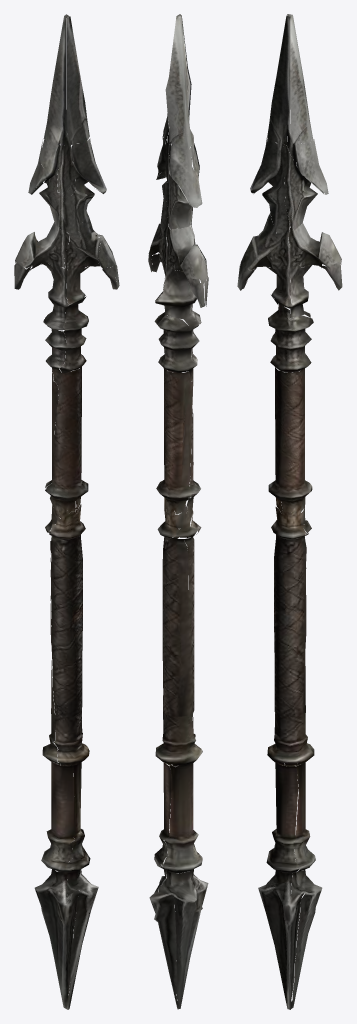
The model's file is winged_spear.glb.
3 renders of one model, left to right at view 1: azimuth 90°, elevation 25°; view 2: azimuth 210°, elevation 25°; view 3: azimuth 270°, elevation 25°, orthographic.
Parts seen in each view (by area): view 1: winged_spear; view 2: winged_spear; view 3: winged_spear.
Part boxes in pixels (x1=…): winged_spear: x1=14, y1=14, x2=119, y2=1009; winged_spear: x1=148, y1=14, x2=208, y2=1009; winged_spear: x1=237, y1=14, x2=342, y2=1009.
Size of the model in its own units: 0.1419 by 2.29 by 0.2193.
Materials: 1 (1 with a texture image).
